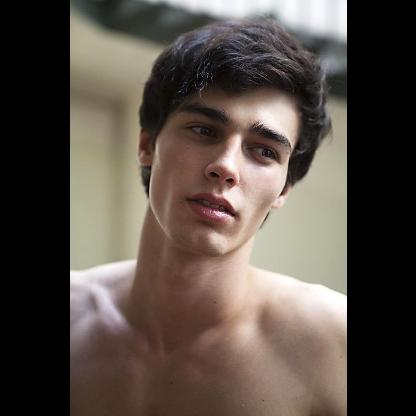Male: (138, 84, 296, 252)
